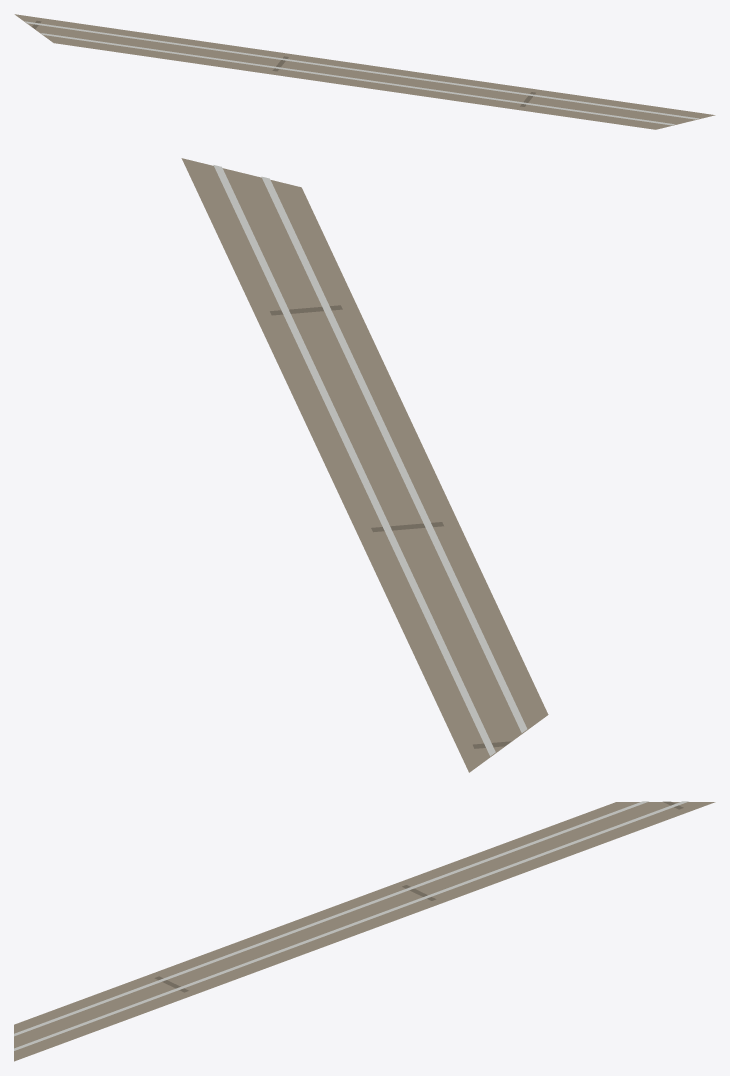
The picture shows the model from 3 angles, top to bottom: view 1: azimuth 30°, elevation 25°; view 2: azimuth 150°, elevation 25°; view 3: azimuth 270°, elevation 25°; orthographic projection. The views are drawn at different scales.
Parts seen in each view (by area): view 1: rail; view 2: rail; view 3: rail.
Part boxes in pixels (x1=…): rail: x1=14, y1=14, x2=715, y2=129; rail: x1=181, y1=158, x2=548, y2=772; rail: x1=14, y1=801, x2=715, y2=1061.
Size of the model in its own units: 33.64 by 0.04 by 38.44.
